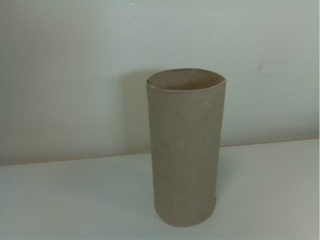rollo papel: (144, 67, 231, 229)
